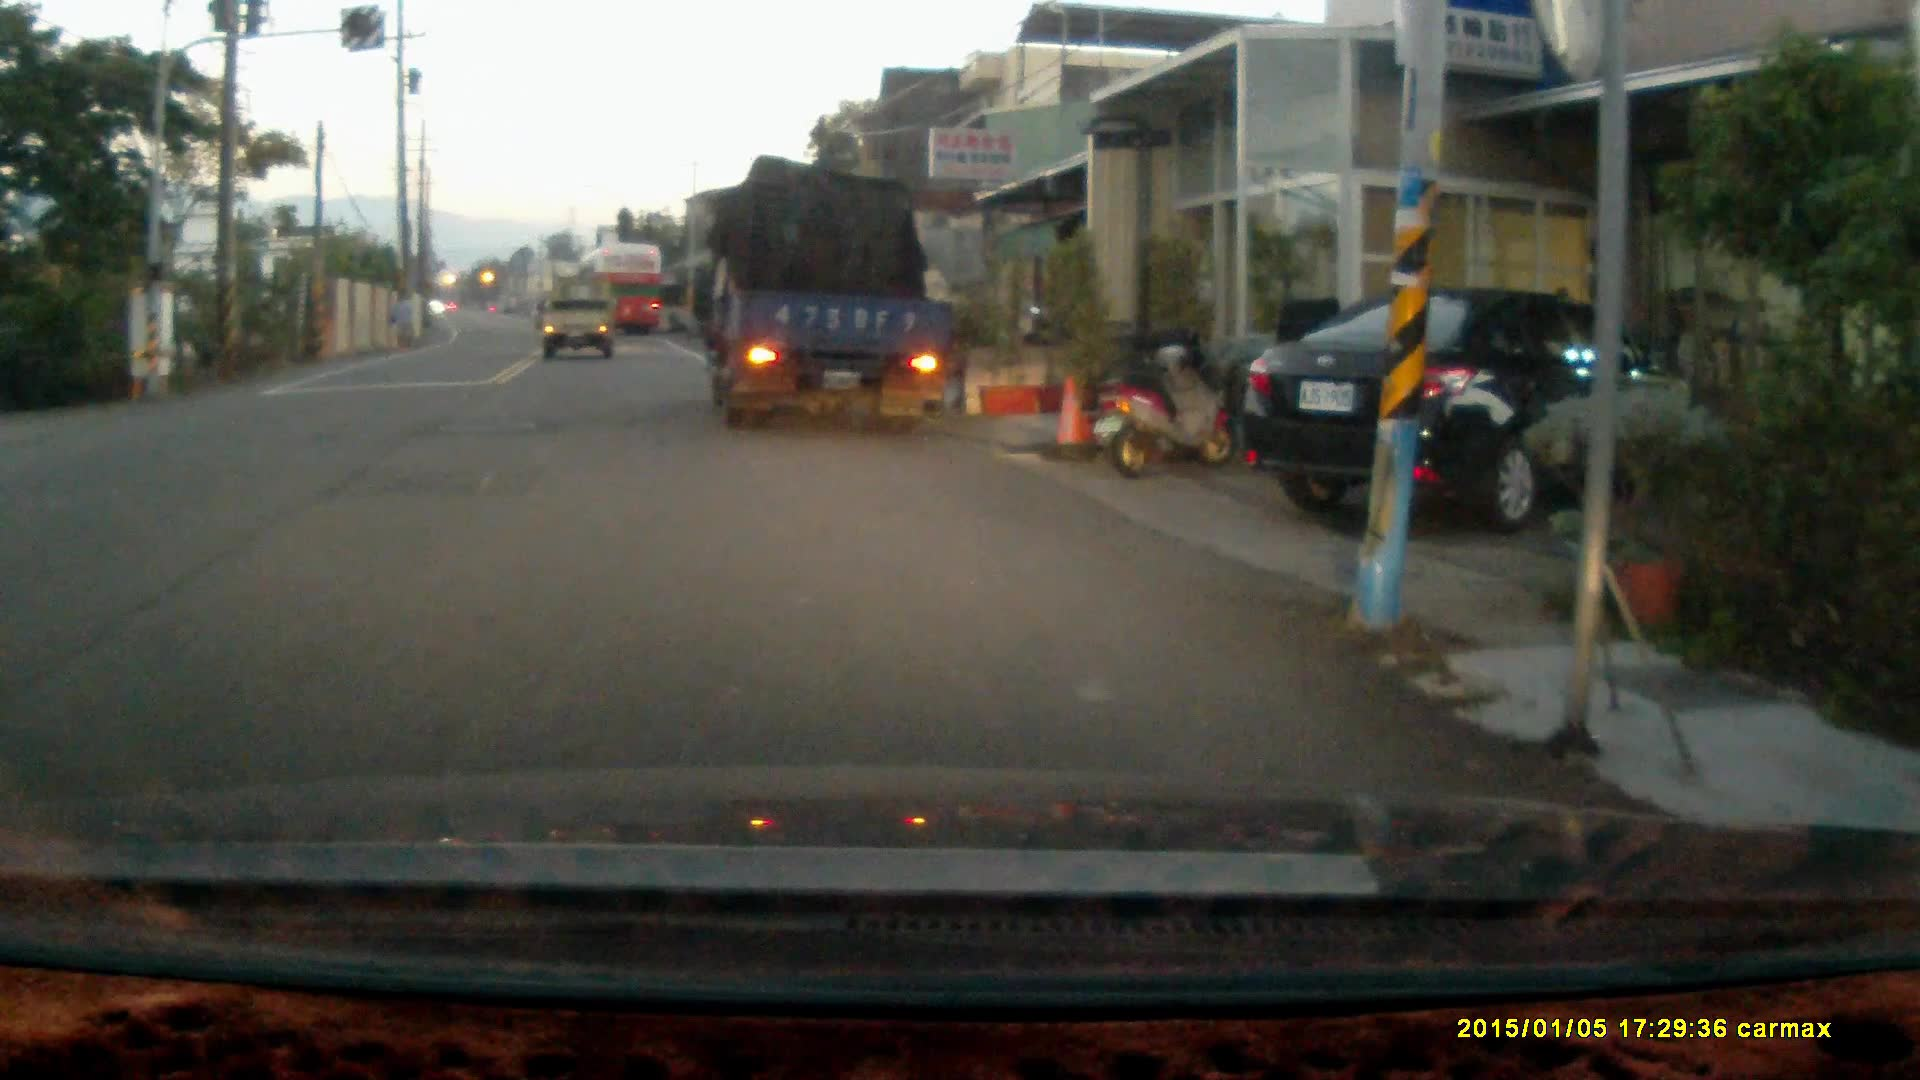vehicle: (1244, 281, 1700, 526), (688, 165, 957, 426), (574, 240, 669, 338), (542, 287, 616, 365)
